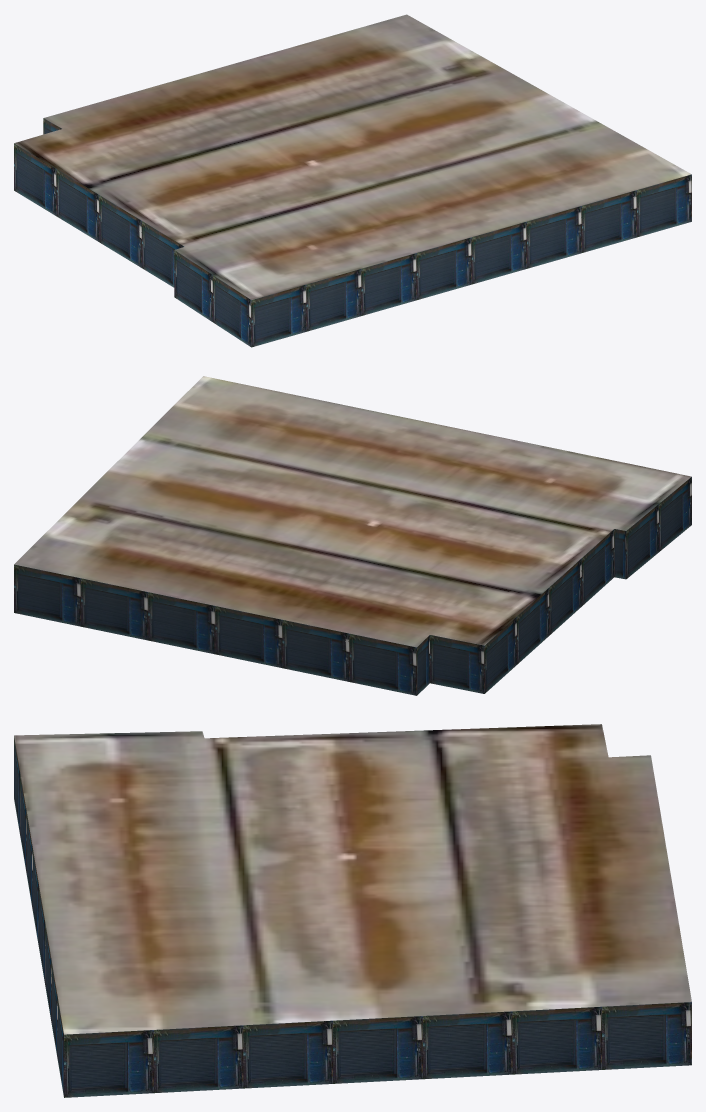
Rendered from T_1SWGM4NWCQ.dae.
3 renders of one model, top to bottom at view 1: azimuth 30°, elevation 25°; view 2: azimuth 150°, elevation 25°; view 3: azimuth 270°, elevation 25°, orthographic. The views are drawn at different scales.
Visible parts, largest first — view 1: SketchUp (×4); view 2: SketchUp (×7); view 3: SketchUp (×3).
Part boxes in pixels (<box>): SketchUp (×4): <box>14,14,691,347</box>; SketchUp (×7): <box>14,376,691,695</box>; SketchUp (×3): <box>14,724,691,1097</box>.
Bounding box in the file's own units: 43.79 × 40.41 × 4.16.
2 materials, 2 textured.
